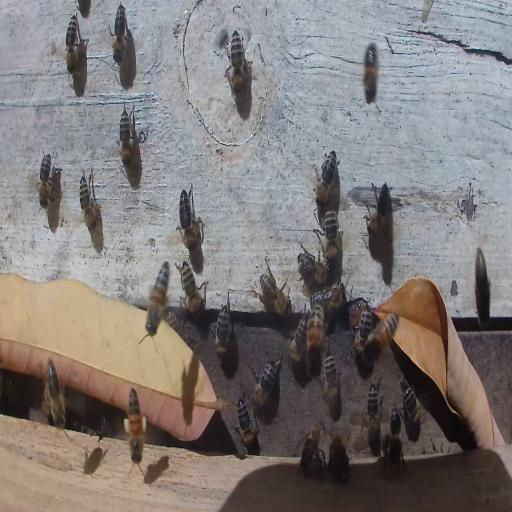nonpollenbee: (249, 352, 282, 408), (146, 260, 170, 334), (363, 181, 392, 240), (176, 259, 204, 317), (43, 358, 66, 428), (178, 186, 202, 251), (313, 148, 339, 208), (258, 271, 291, 318), (235, 396, 259, 456), (78, 171, 100, 235), (368, 316, 402, 357), (296, 250, 332, 287), (297, 433, 327, 476), (474, 245, 490, 325), (318, 210, 342, 261), (322, 348, 342, 408), (400, 377, 423, 429), (329, 430, 351, 484), (211, 296, 230, 356), (289, 312, 310, 366), (228, 29, 245, 95), (351, 304, 373, 354), (312, 283, 345, 316), (118, 105, 134, 169), (366, 377, 382, 440), (363, 41, 379, 104), (64, 13, 80, 74), (112, 3, 127, 64), (385, 436, 404, 480), (38, 150, 52, 208), (308, 305, 324, 350), (390, 406, 403, 437)
pollenbee: (124, 385, 148, 465)
